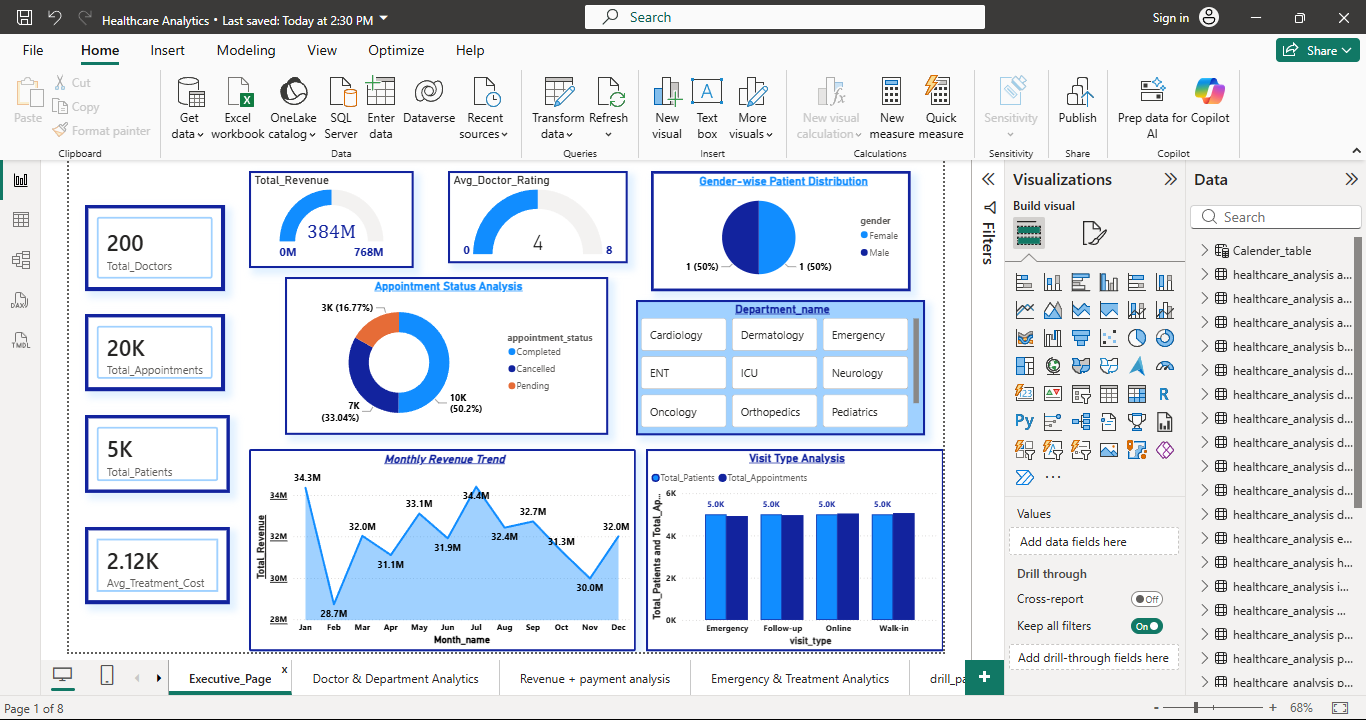

Layout of this report page (visuals, bound fields, positions):
{"tool":"powerbi","page":{"name":"Executive_Page","canvas":[1280,720],"ordinal":0},"visuals":[{"type":"cardVisual","fields":{"Data":["measure_box.Total_Doctors"]},"box":[23.4,65.9,204.9,125.9],"z":0},{"type":"cardVisual","fields":{"Data":["measure_box.Total_Patients"]},"box":[23.4,373.2,212.2,114.1],"z":1000},{"type":"gauge","fields":{"Y":["measure_box.Total_Revenue"]},"box":[263.4,16.1,241.5,142],"z":2000},{"type":"cardVisual","fields":{"Data":["measure_box.Total_Appointments"]},"box":[23.4,225.4,204.9,112.7],"z":3000},{"type":"cardVisual","fields":{"Data":["measure_box.Avg_Treatment_Cost"]},"box":[23.4,537.1,212.2,112.7],"z":4000},{"type":"lineChart","title":"Monthly Revenue Trend","fields":{"Category":["Calender_table.Month_name"],"Y":["measure_box.Total_Revenue"]},"box":[263.5,423.5,566.3,296.5],"z":5000},{"type":"gauge","fields":{"Y":["measure_box.Avg_Doctor_Rating"]},"box":[554.8,16.2,262.8,134.7],"z":6000},{"type":"donutChart","title":"Appointment Status Analysis","fields":{"Category":["healthcare_analysis appointments.appointment_status"],"Y":["measure_box.Total_Appointments"]},"box":[316.1,171.2,472.7,231.2],"z":7000},{"type":"pieChart","title":"Gender-wise Patient Distribution","fields":{"Y":["measure_box.patient_distribution"],"Category":["healthcare_analysis doctors.gender"]},"box":[851.7,16.1,380.5,175.6],"z":8000},{"type":"clusteredColumnChart","title":"Visit Type Analysis","fields":{"Category":["healthcare_analysis appointments.visit_type"],"Y":["measure_box.Total_Patients","measure_box.Total_Appointments"]},"box":[843.9,423.5,436.1,296.5],"z":9000},{"type":"advancedSlicerVisual","title":"Department_name","fields":{"Values":["healthcare_analysis departments.department_name"]},"box":[829.8,204.9,422.9,197.6],"z":10000}]}

Visuals, with their boxes on the page's 1280x720 design canvas (x1, y1, x2, y2). These are canvas units, not pixel positions in the 1366x720 screenshot, which may show the page scaled, cropped or inside an application window:
cardVisual - measure_box.Total_Doctors: <box>23,66,228,192</box>
cardVisual - measure_box.Total_Patients: <box>23,373,236,487</box>
gauge - measure_box.Total_Revenue: <box>263,16,505,158</box>
cardVisual - measure_box.Total_Appointments: <box>23,225,228,338</box>
cardVisual - measure_box.Avg_Treatment_Cost: <box>23,537,236,650</box>
"Monthly Revenue Trend" lineChart: <box>264,424,830,720</box>
gauge - measure_box.Avg_Doctor_Rating: <box>555,16,818,151</box>
"Appointment Status Analysis" donutChart: <box>316,171,789,402</box>
"Gender-wise Patient Distribution" pieChart: <box>852,16,1232,192</box>
"Visit Type Analysis" clusteredColumnChart: <box>844,424,1280,720</box>
"Department_name" advancedSlicerVisual: <box>830,205,1253,402</box>
